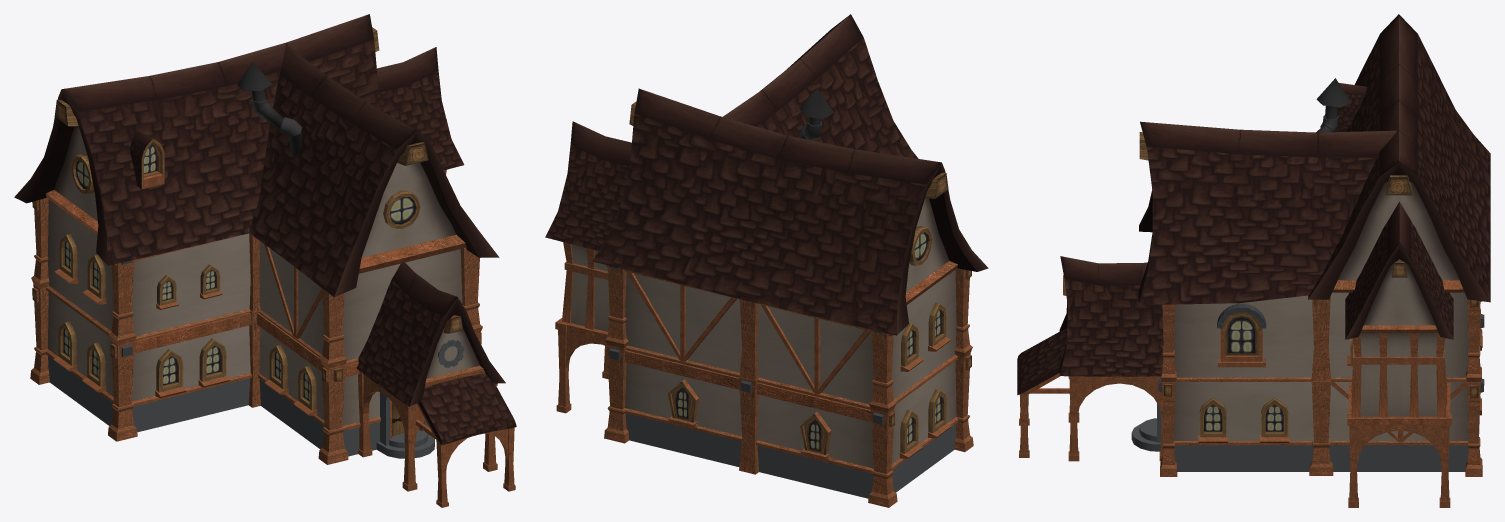
The model's file is fanasty_mod_village_building04.fbx.
The picture shows the model from 3 angles, left to right: view 1: azimuth 30°, elevation 25°; view 2: azimuth 150°, elevation 25°; view 3: azimuth 270°, elevation 25°; orthographic projection.
Visible parts, largest first — view 1: village_building_04; view 2: village_building_04; view 3: village_building_04.
Boxes of the visible parts, x1,y1,x2,y2 form: village_building_04: (14, 14, 516, 507); village_building_04: (545, 14, 988, 507); village_building_04: (1017, 14, 1490, 507).
Size of the model in its own units: 15.2 by 12.95 by 16.8.
